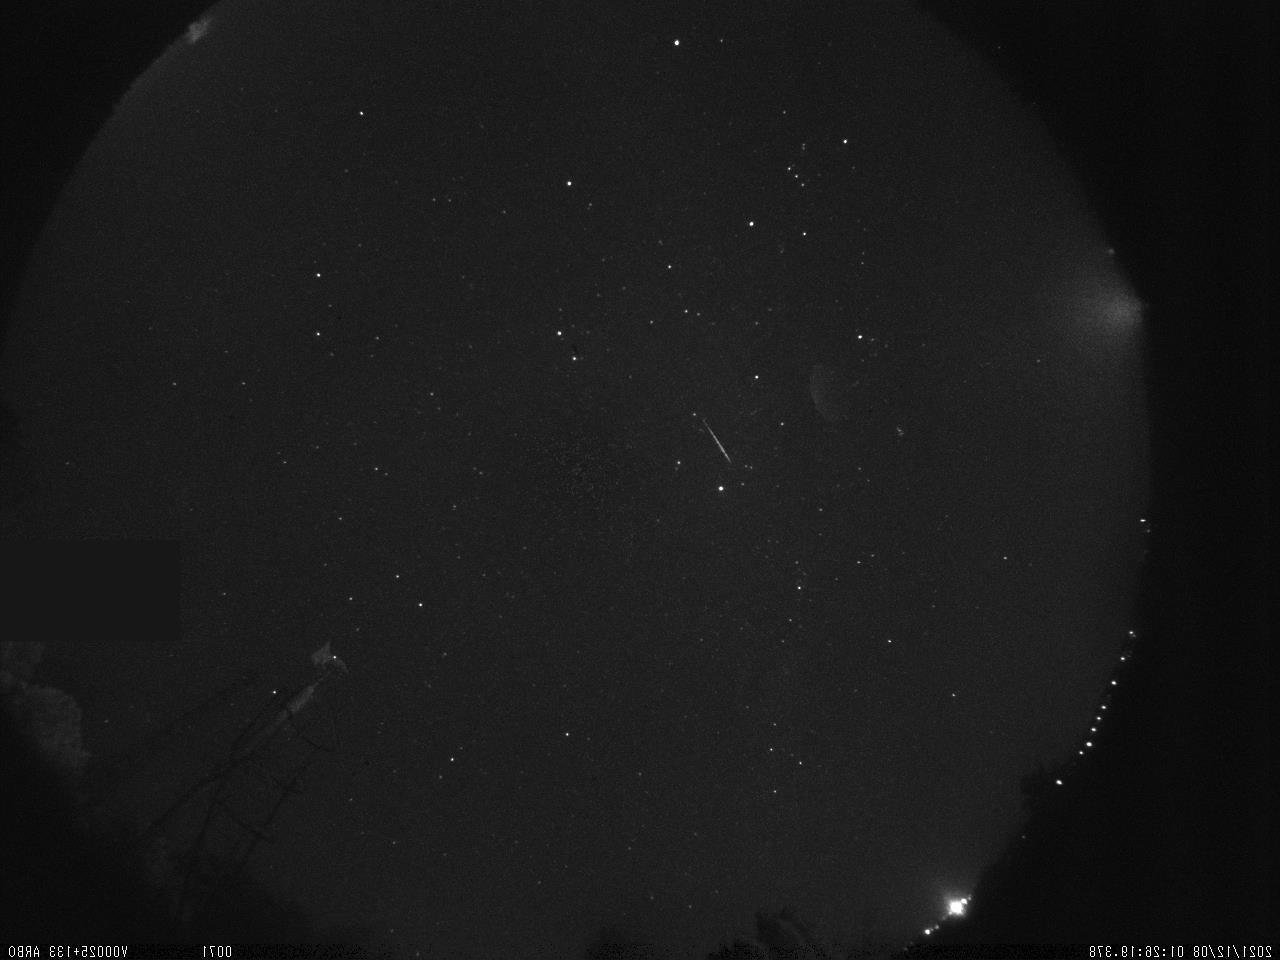meteor: (697, 412, 739, 471)
